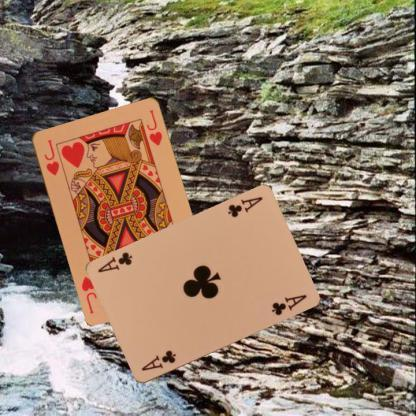Ac: (224, 194, 264, 219), (139, 348, 177, 372)
Jh: (41, 136, 60, 177)
